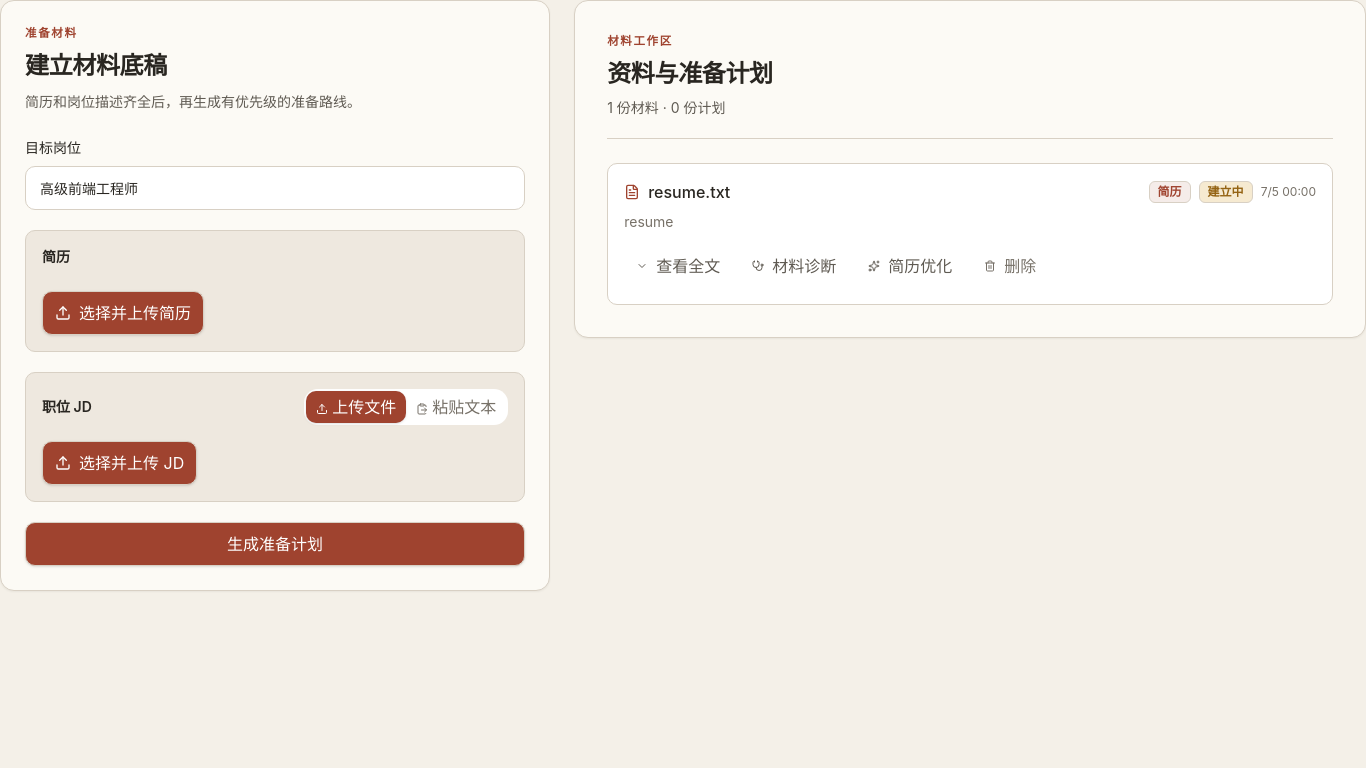
it: DocumentsPage embedding status › blocks plan generation while selected documents are still indexing
The width and height of the screenshot is (1366, 768).
Click the button "生成准备计划".
click(275, 544)  # box [25, 522, 525, 566]
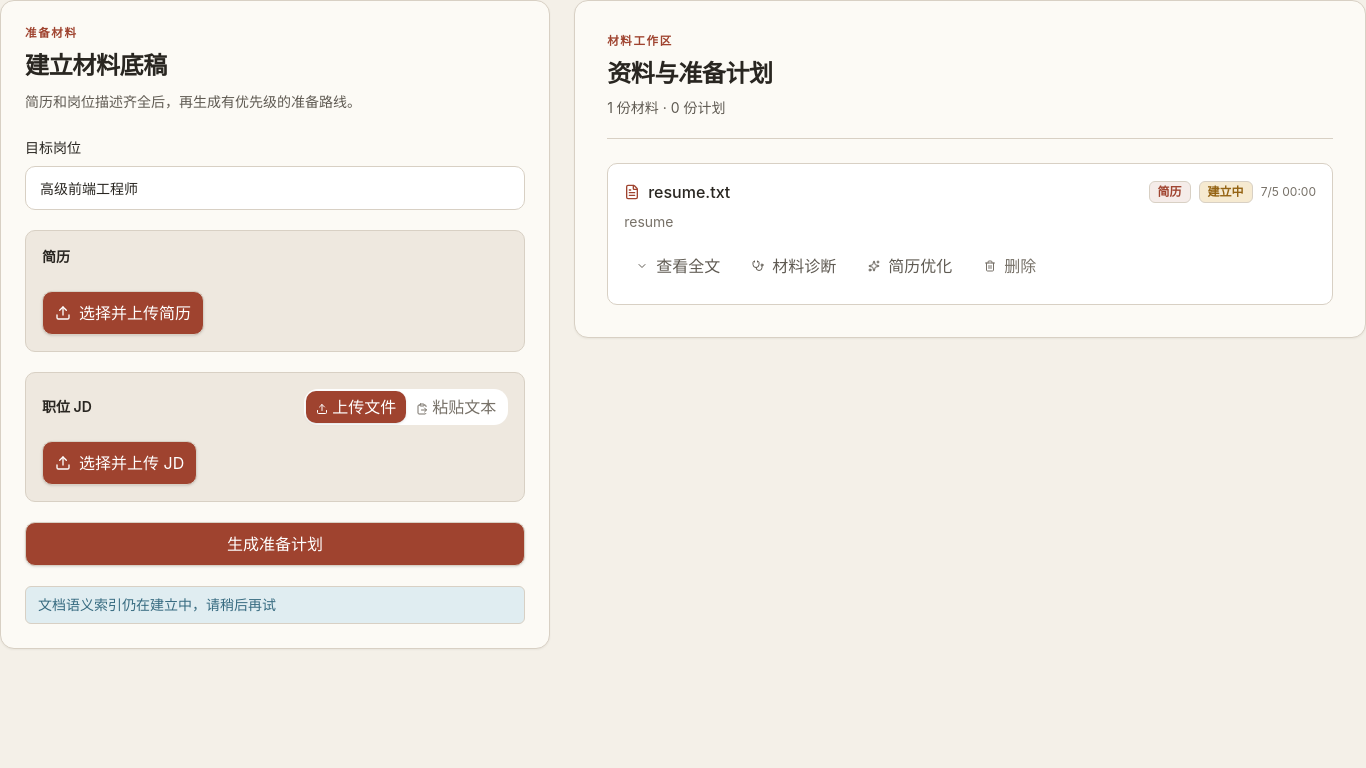
Now the text "文档语义索引仍在建立中，请稍后再试" is shown, box [25, 586, 525, 624]
